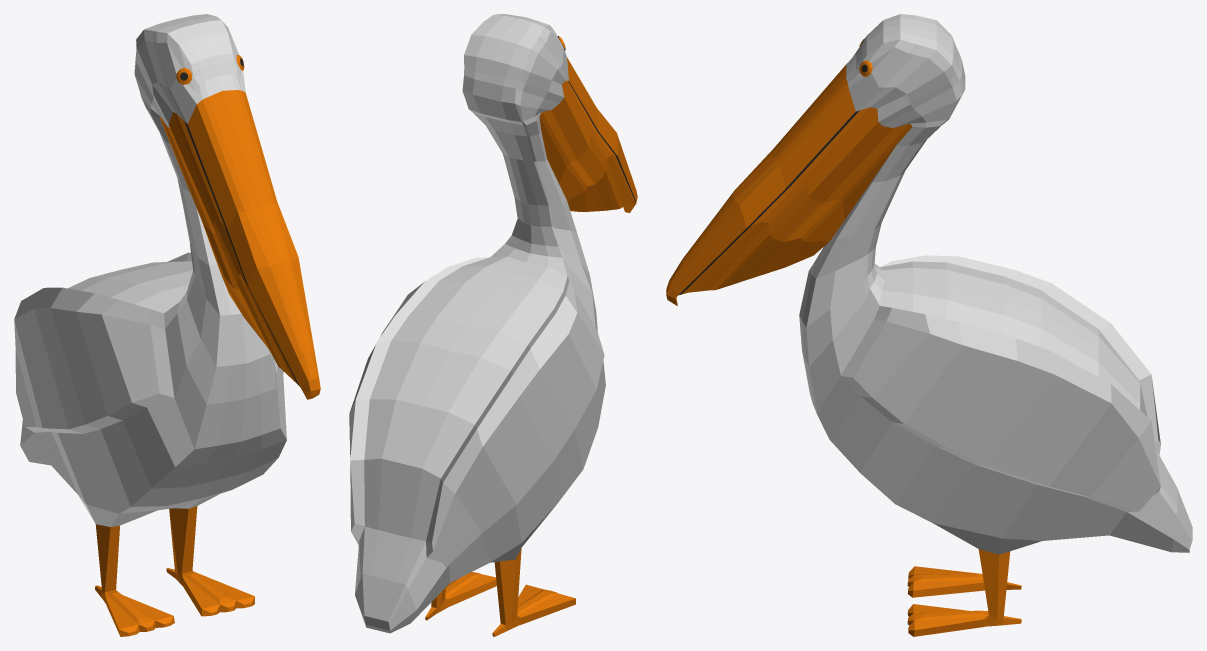
File: pelican.fbx
3 renders of one model, left to right at view 1: azimuth 30°, elevation 25°; view 2: azimuth 150°, elevation 25°; view 3: azimuth 270°, elevation 25°, orthographic. The views are drawn at different scales.
Parts seen in each view (by area): view 1: Plane; view 2: Plane; view 3: Plane.
Boxes of the visible parts, <box> form: Plane: <box>14,14,320,636</box>; Plane: <box>349,14,637,636</box>; Plane: <box>666,14,1192,636</box>.
Bounding box in the file's own units: 109 × 367 × 301.
